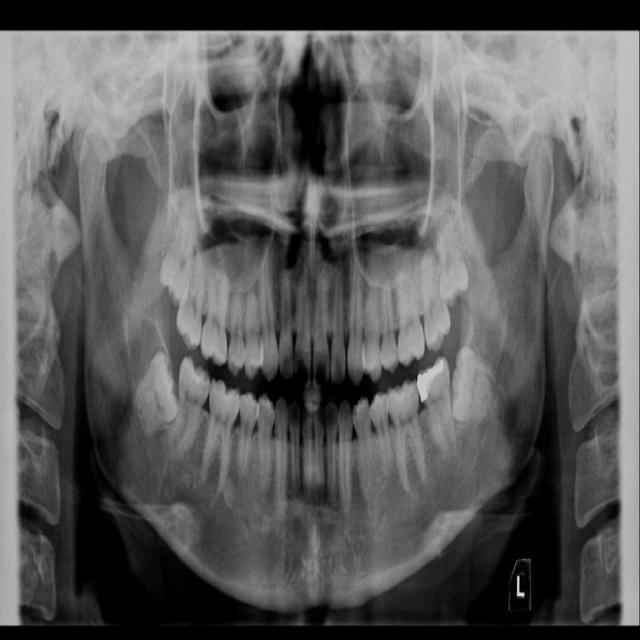3M ESPE Implant: (156, 181, 201, 309)
52: (405, 353, 461, 407)
73: (567, 546, 568, 560)
BioHorizons Implant: (418, 250, 453, 354)
BioLife Implant: (436, 206, 470, 307)
Biomet 3i Implant: (450, 345, 500, 425)
Blue Sky Bio Implant: (414, 354, 458, 456)
Caries: (175, 241, 209, 351)
Implant: (163, 353, 216, 462)
Keystone Dental Implant: (121, 348, 186, 436)
